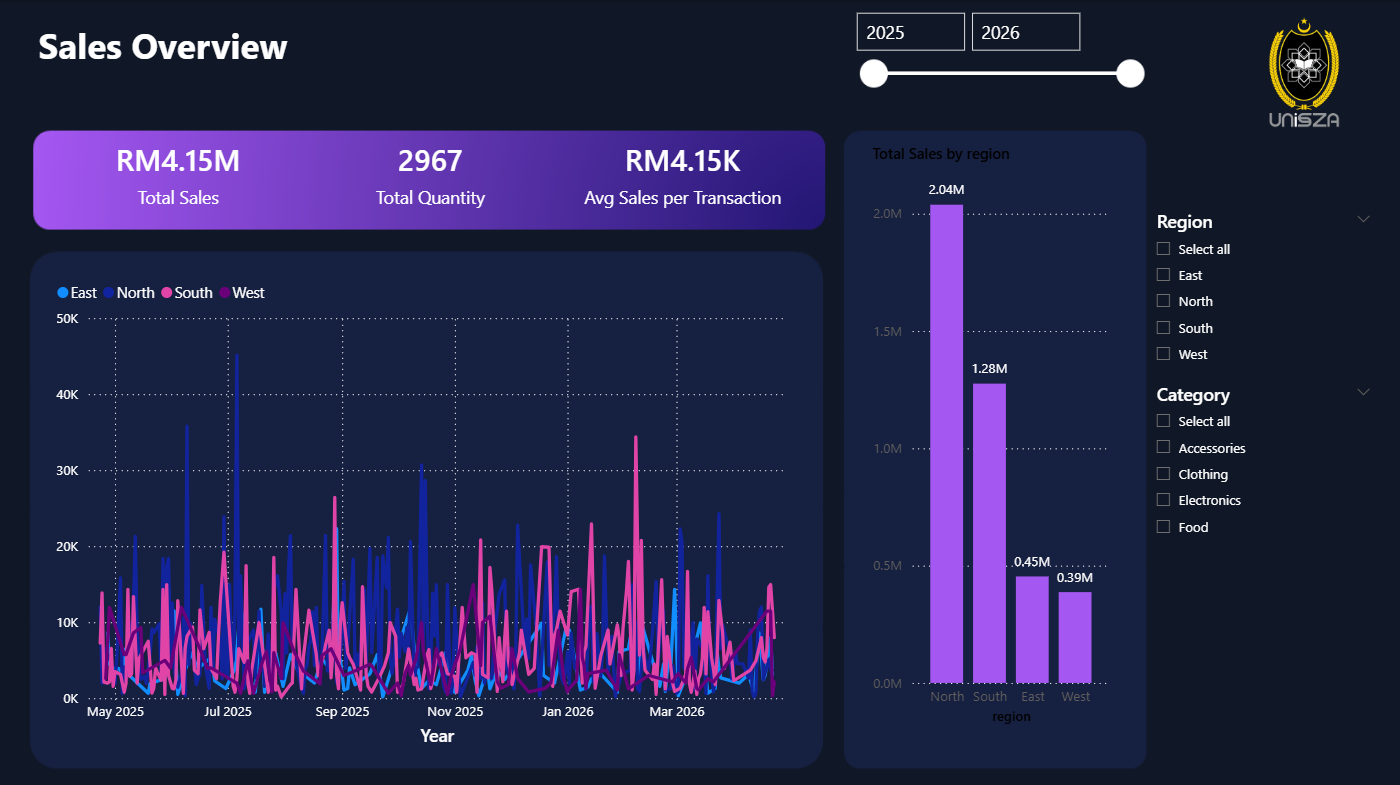

The dashboard page shown, as its layout file describes it:
{"tool":"powerbi","page":{"name":"Sales Overview","canvas":[1280,720],"ordinal":0},"visuals":[{"type":"card","fields":{"Values":["fact_sales.Total Sales"]},"box":[0,102,230,107.1],"z":0},{"type":"card","fields":{"Values":["fact_sales.Total Quantity"]},"box":[230.3,102,265.7,107.1],"z":1000},{"type":"card","fields":{"Values":["fact_sales.Avg Sales per Transaction"]},"box":[496,100.6,220,107.1],"z":2000},{"type":"textbox","box":[31.4,14.3,262.9,58.6],"z":3000},{"type":"slicer","fields":{"Values":["dim_time.saledate.Variation.Date Hierarchy.Year"]},"box":[772.9,7.1,272.9,94.3],"z":4000},{"type":"lineChart","fields":{"Category":["dim_time.saledate.Variation.Date Hierarchy.Year","dim_time.saledate.Variation.Date Hierarchy.Month","dim_time.saledate.Variation.Date Hierarchy.Day"],"Series":["dim_store.region"],"Y":["fact_sales.Total Sales"]},"box":[31.4,245.7,715.7,457.1],"z":4001},{"type":"columnChart","fields":{"Category":["dim_store.region"],"Y":["fact_sales.Total Sales"]},"box":[782.9,118.6,240,552.9],"z":4002},{"type":"slicer","fields":{"Values":["dim_customer.region"]},"box":[1045.7,190,210,157.1],"z":4003},{"type":"slicer","fields":{"Values":["dim_product.category"]},"box":[1045.7,347.1,210,172.9],"z":4004}]}

Visuals, with their boxes in screenshot pixels (x1, y1, x2, y2), scaled from the page's 1280x720 canvas onto the 1400x785 screenshot:
card - fact_sales.Total Sales: box=[0, 111, 252, 228]
card - fact_sales.Total Quantity: box=[252, 111, 542, 228]
card - fact_sales.Avg Sales per Transaction: box=[542, 110, 783, 226]
textbox: box=[34, 16, 322, 79]
slicer - dim_time.saledate.Variation.Date Hierarchy.Year: box=[845, 8, 1144, 111]
lineChart - dim_time.saledate.Variation.Date Hierarchy.Year x dim_time.saledate.Variation.Date Hierarchy.Month: box=[34, 268, 817, 766]
columnChart - dim_store.region x fact_sales.Total Sales: box=[856, 129, 1119, 732]
slicer - dim_customer.region: box=[1144, 207, 1373, 378]
slicer - dim_product.category: box=[1144, 378, 1373, 567]
